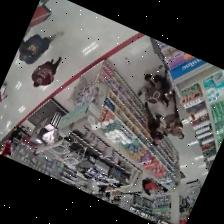person: (19, 31, 62, 63), (137, 69, 170, 104), (31, 56, 60, 86), (144, 101, 163, 145), (171, 91, 182, 129), (8, 125, 23, 142)
